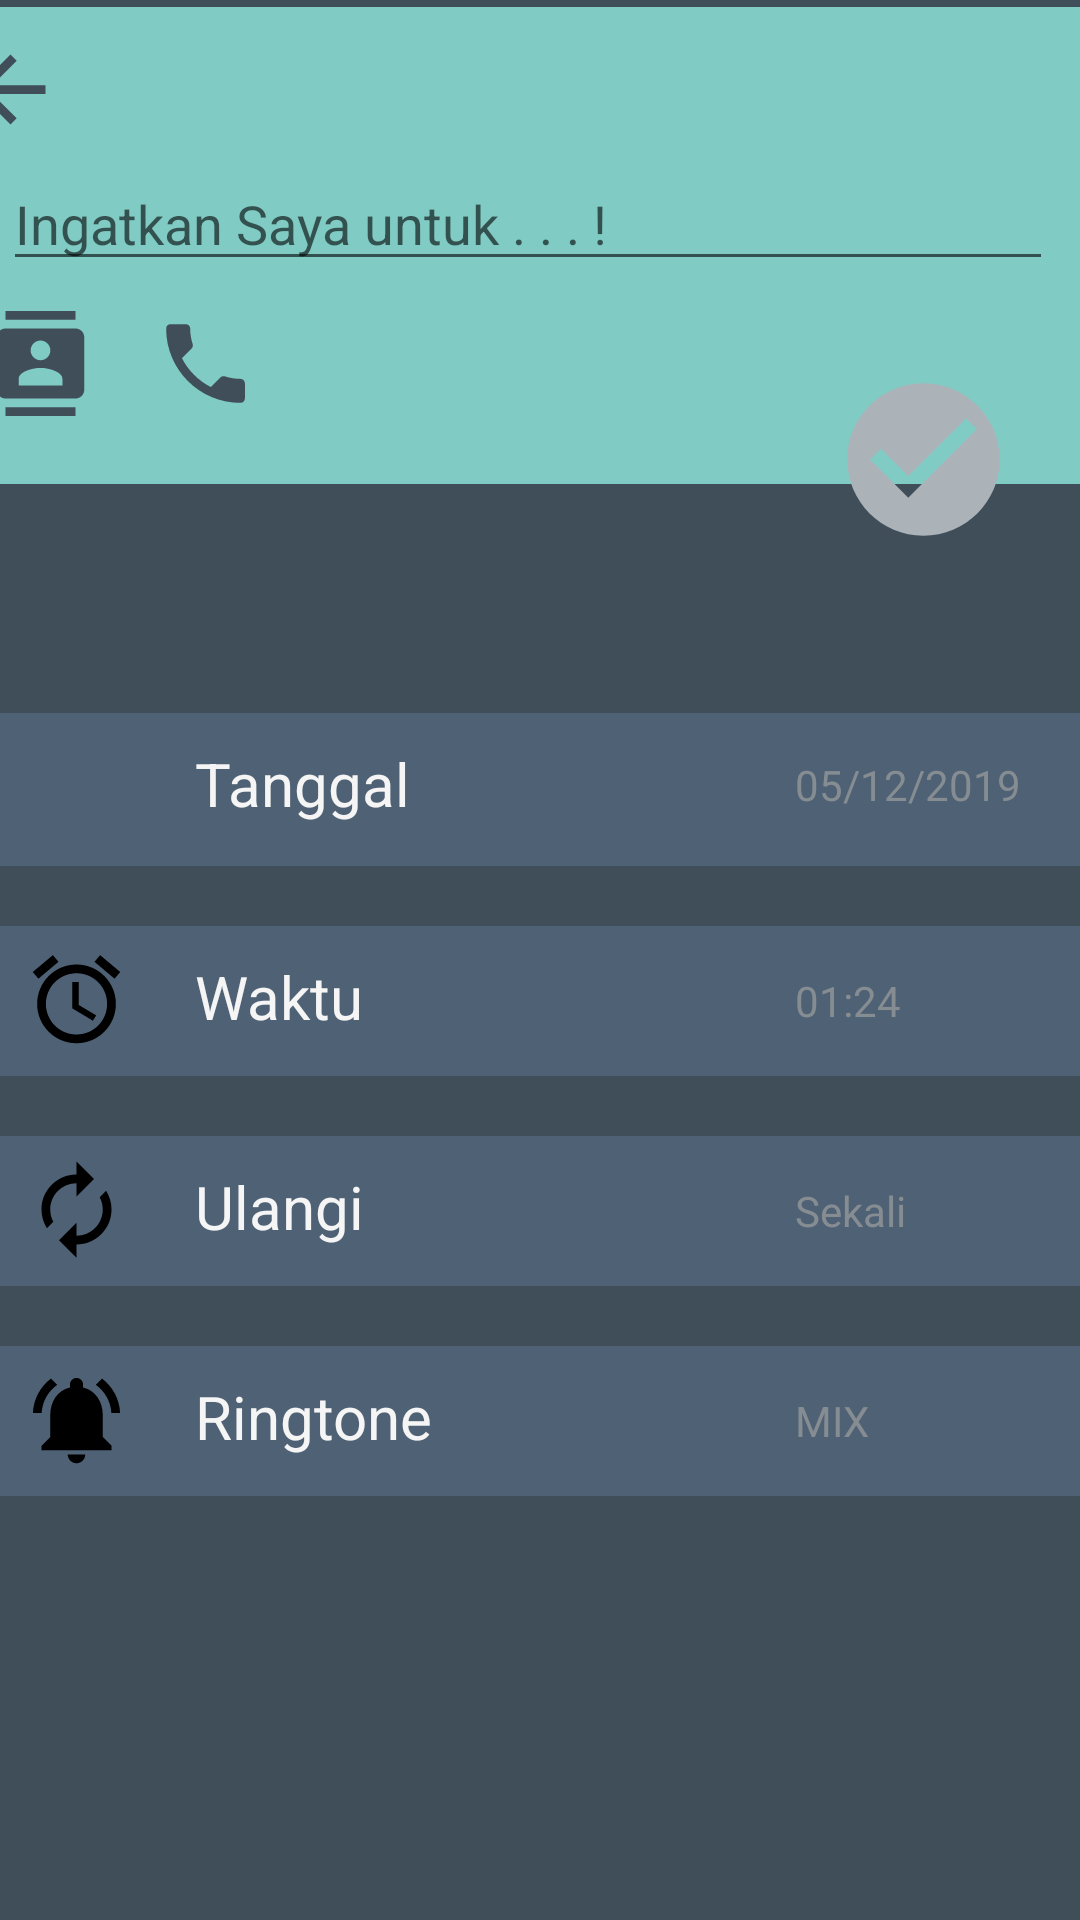

Point at icon controls on the screen. Image size 1080px×1920px, points as (x,y).
centang: (923,459)
jam: (76,999)
telpon: (205,363)
